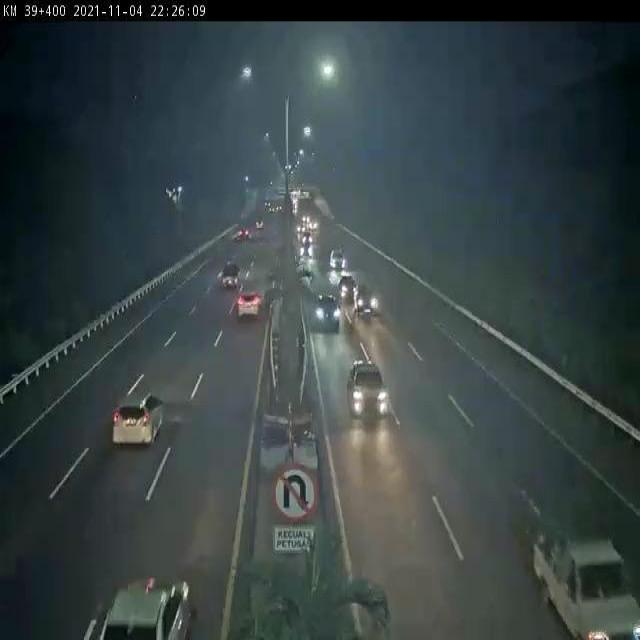car: (523, 504, 640, 640), (99, 546, 202, 640), (106, 371, 172, 461), (341, 344, 394, 417), (311, 287, 345, 329), (231, 281, 264, 324), (353, 282, 388, 322), (215, 264, 257, 291), (328, 247, 356, 273)
